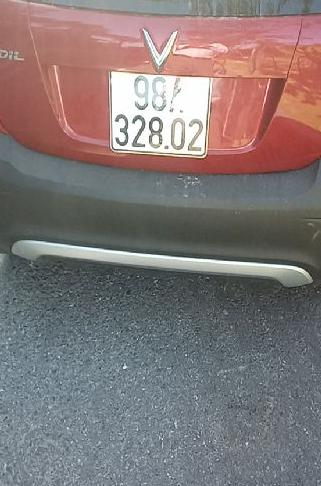Plate-iWeP: (106, 67, 216, 158)
